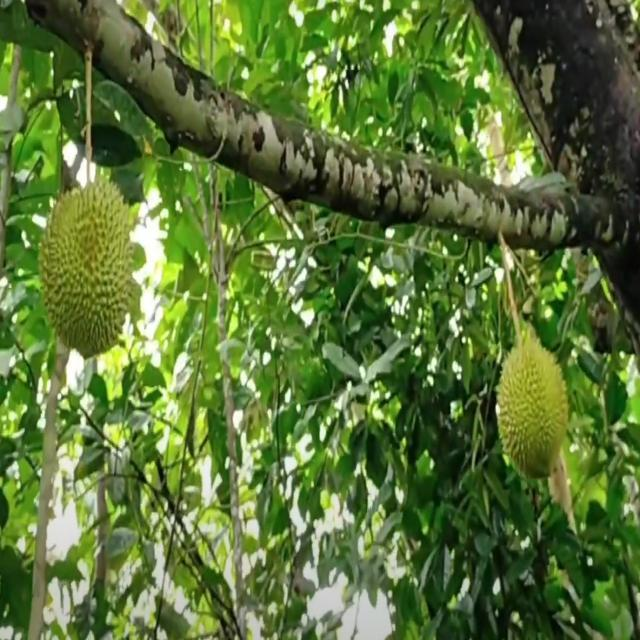immature: (41, 176, 135, 363), (494, 331, 570, 486)
